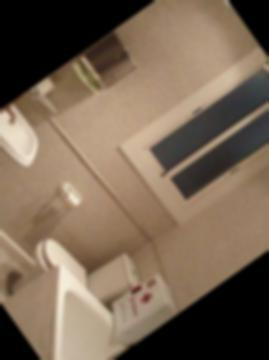Lavamanos: (0, 99, 55, 224)
Sanitario: (0, 197, 158, 356)
